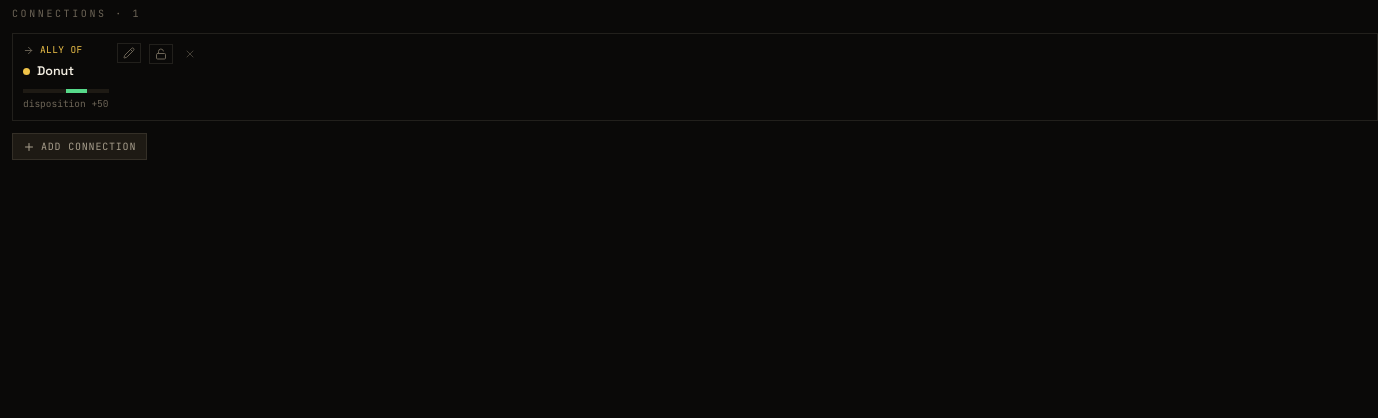
Test: ConnectionsPanel › keeps the edit form open and shows the error when an edit fails
The width and height of the screenshot is (1378, 418).
Click the button named "Edit connection": (128, 53) [116,43,140,63]
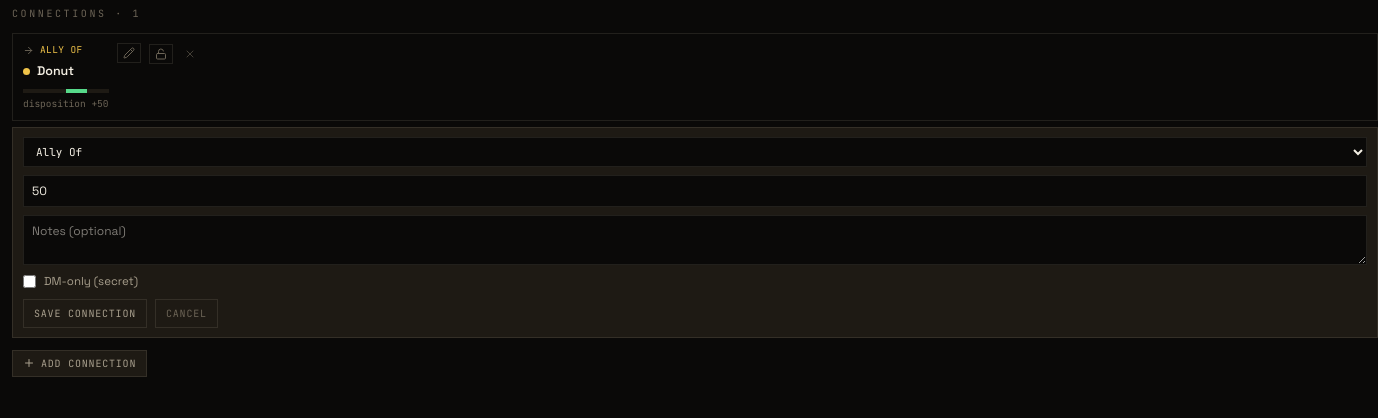
Submit the form named "Relationship type", box [12,127,1377,338]
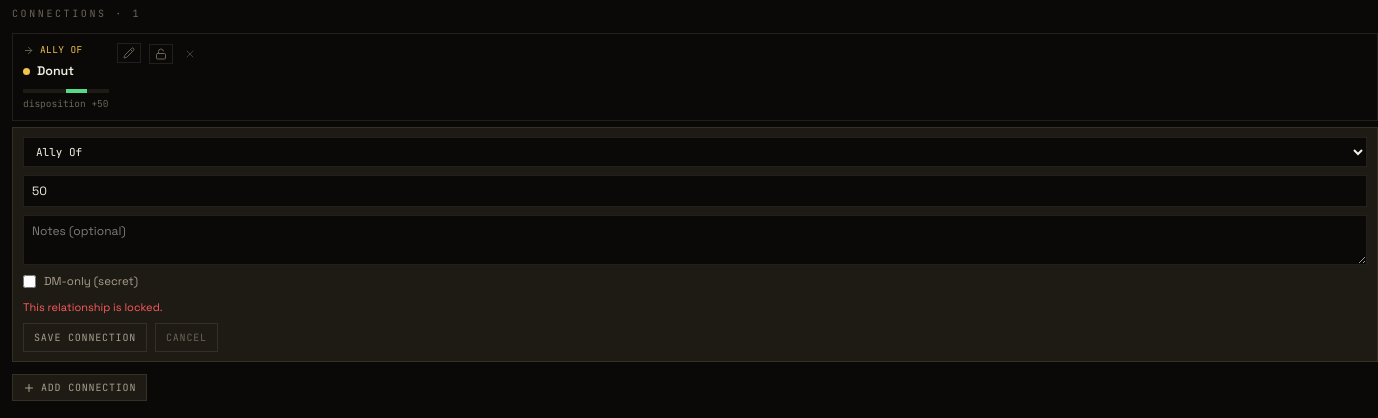
Now the dropdown named "Relationship type" is shown, box [23,137,1367,167]
Now the text "This relationship is locked." is shown, box [23,300,162,314]
